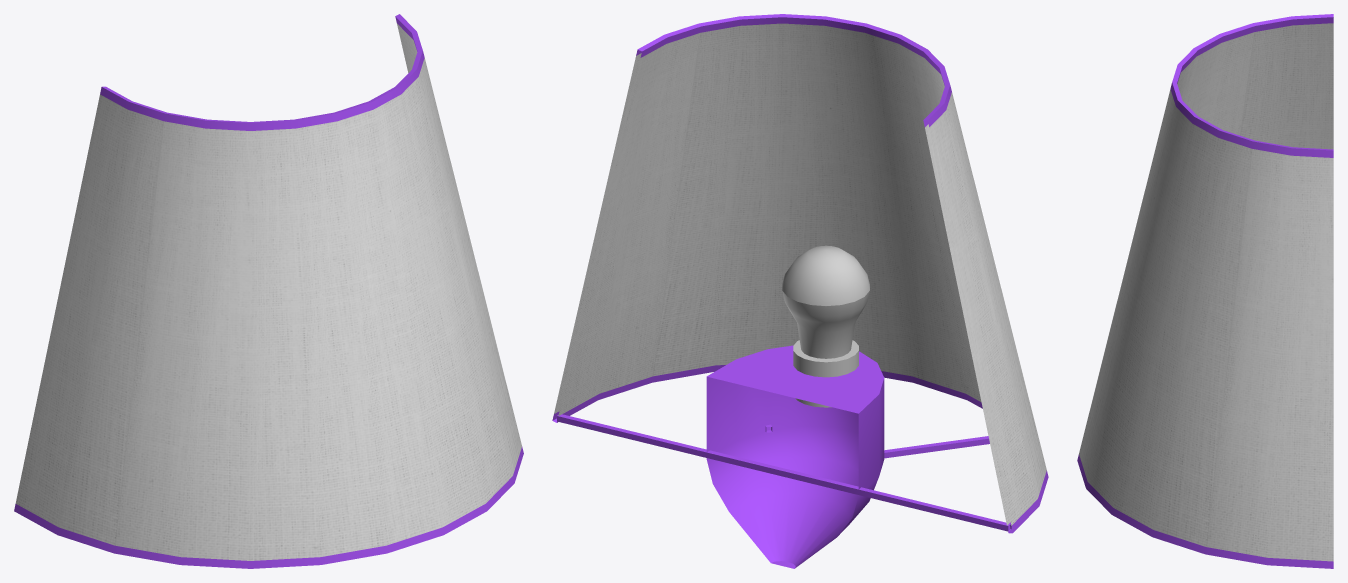
File: LightWall10_2.FBX
3 views of the same model, side by side, from view 1: azimuth 30°, elevation 25°; view 2: azimuth 150°, elevation 25°; view 3: azimuth 270°, elevation 25° (orthographic). The views are drawn at different scales.
Parts seen in each view (by area): view 1: LightWall10_2; view 2: LightWall10_2; view 3: LightWall10_2.
Boxes of the visible parts, <box> form: LightWall10_2: <box>14,14,523,568</box>; LightWall10_2: <box>552,14,1048,568</box>; LightWall10_2: <box>1077,14,1333,568</box>.
Bounding box in the file's own units: 26.17 × 26.13 × 13.09.
